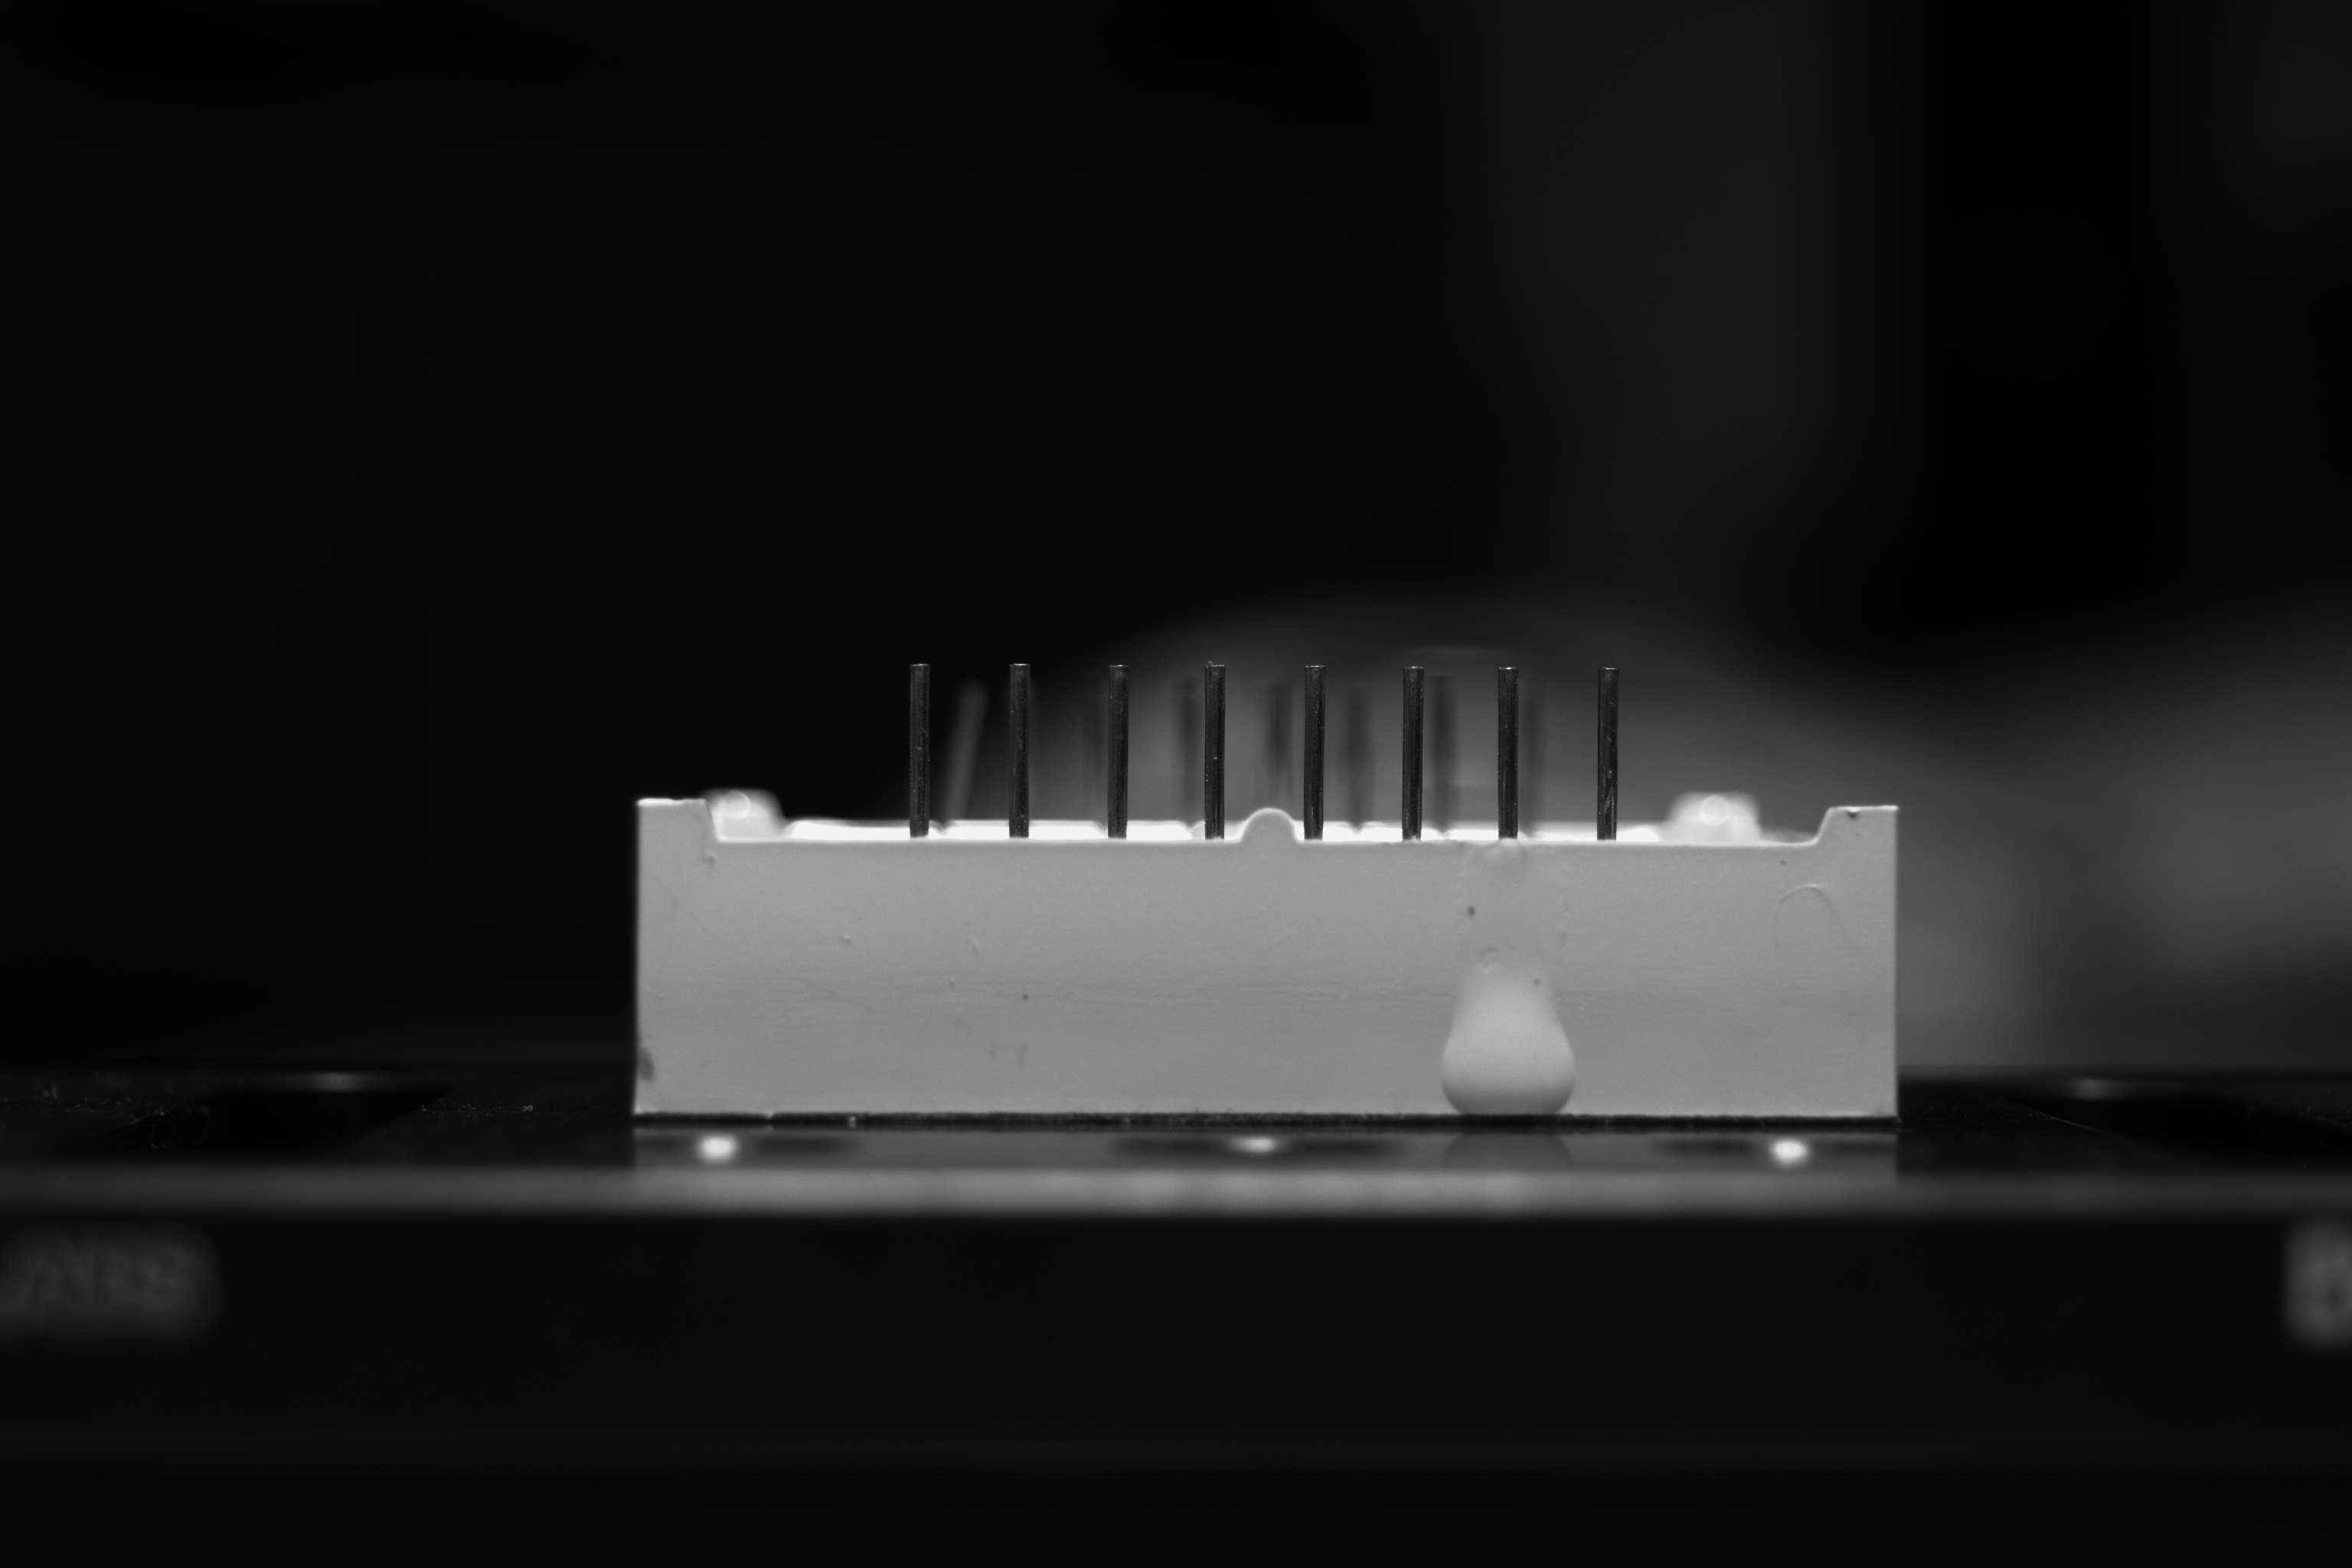glue: (1442, 843, 1584, 1120)
